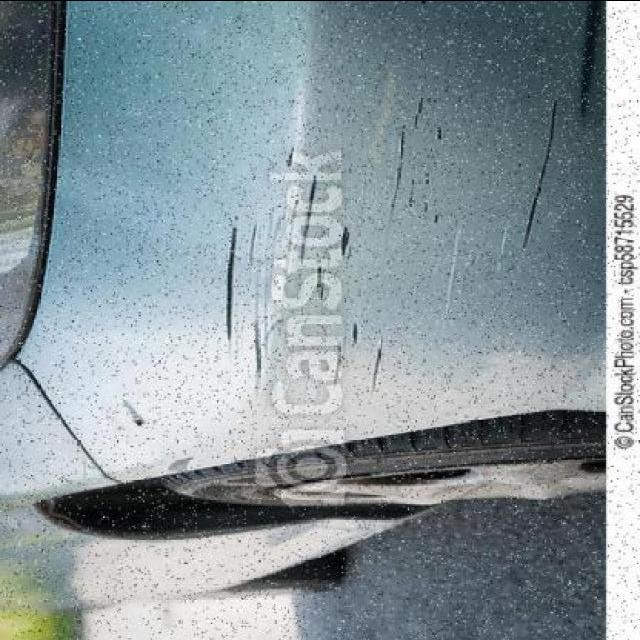front-bumper-dent: (42, 0, 616, 498)
